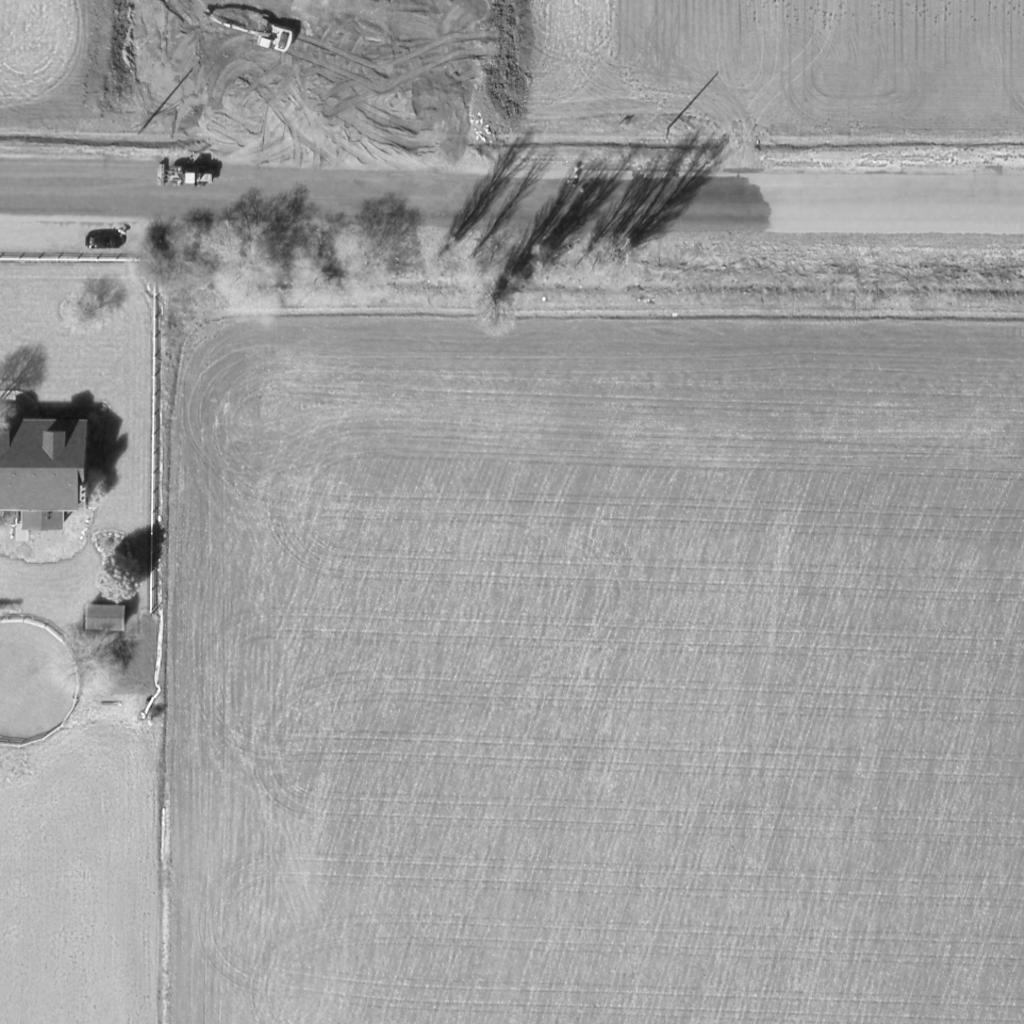vehicle: (200, 4, 296, 54), (153, 161, 215, 189), (83, 230, 125, 248)
